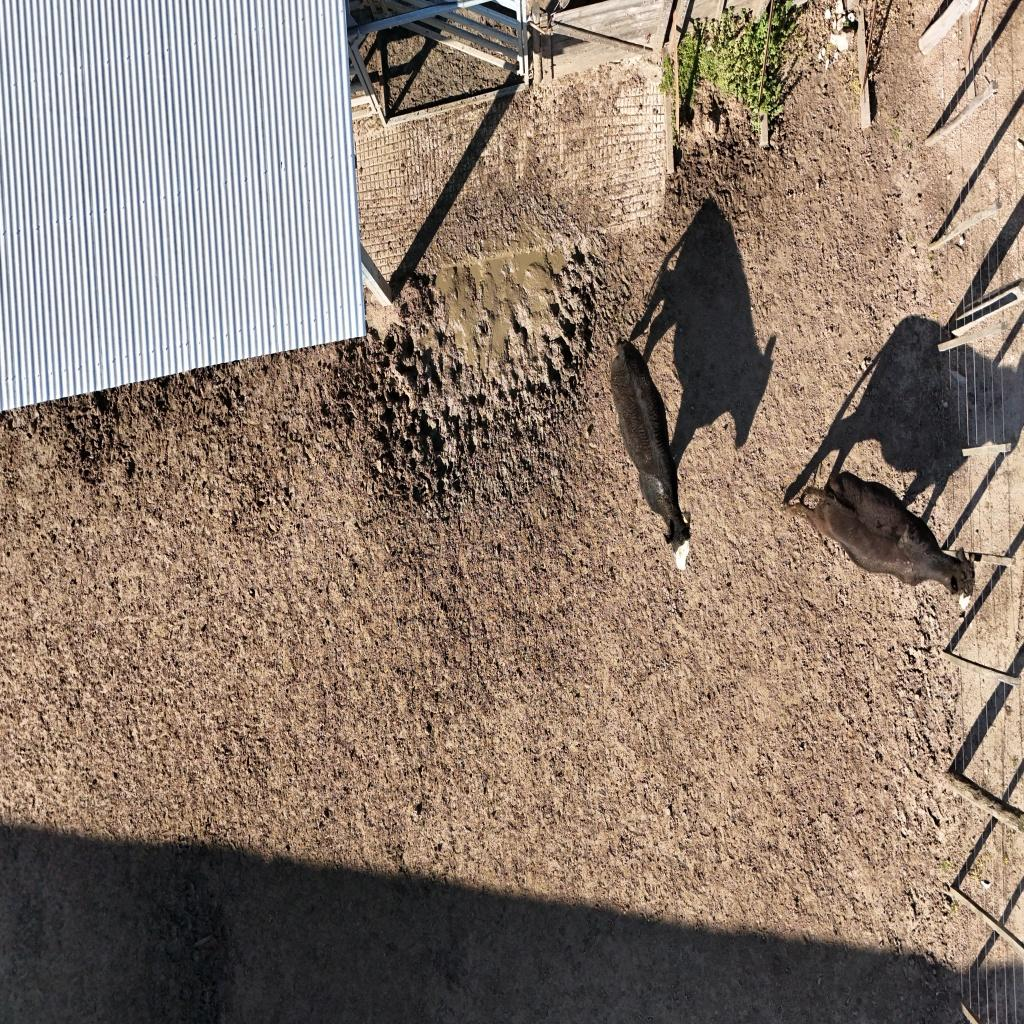cow: (782, 466, 980, 608), (604, 339, 691, 569)
